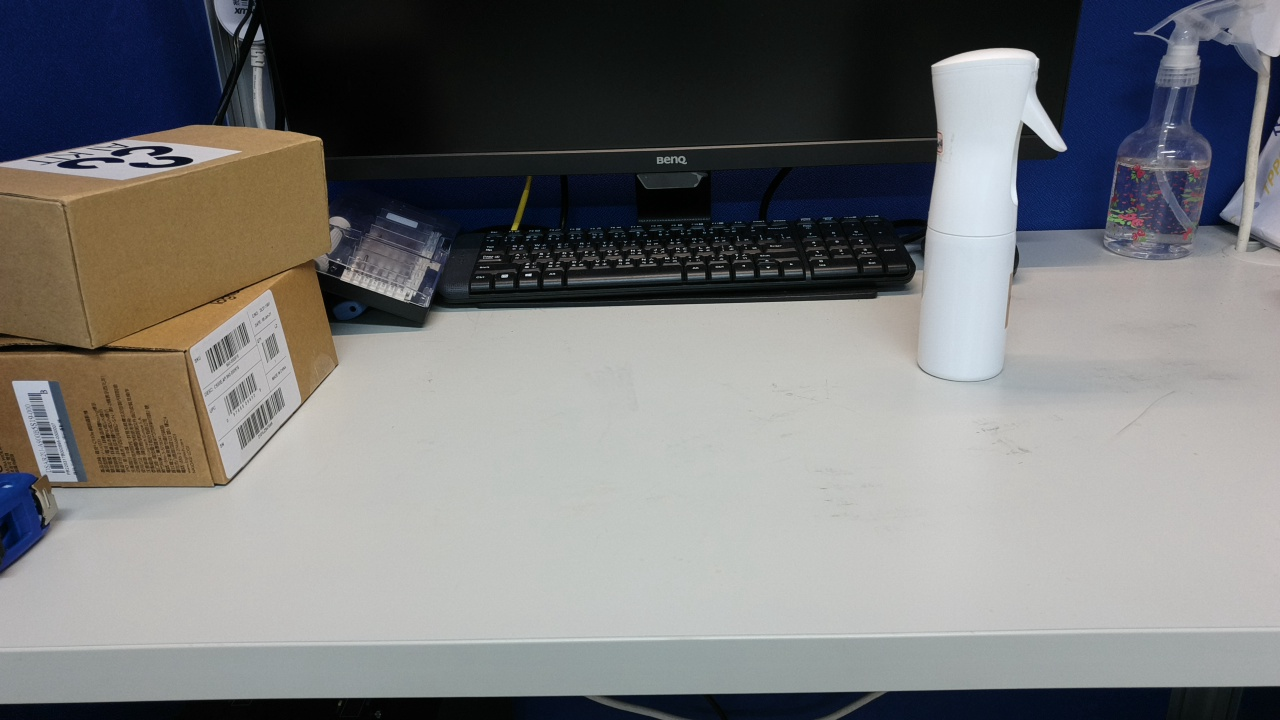long: (843, 487, 1000, 681)
